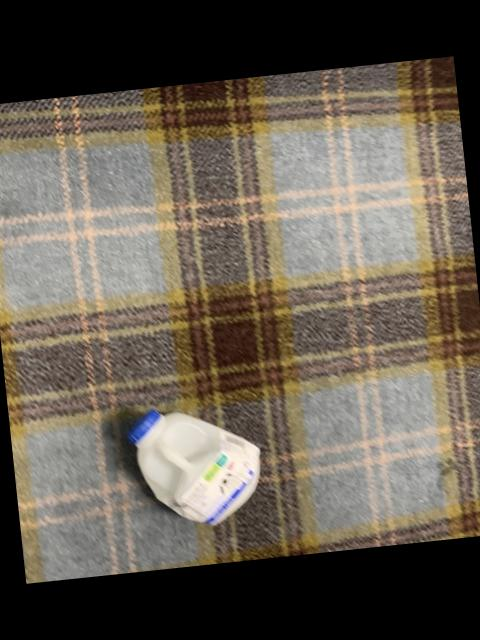plastic: (126, 412, 257, 526)
